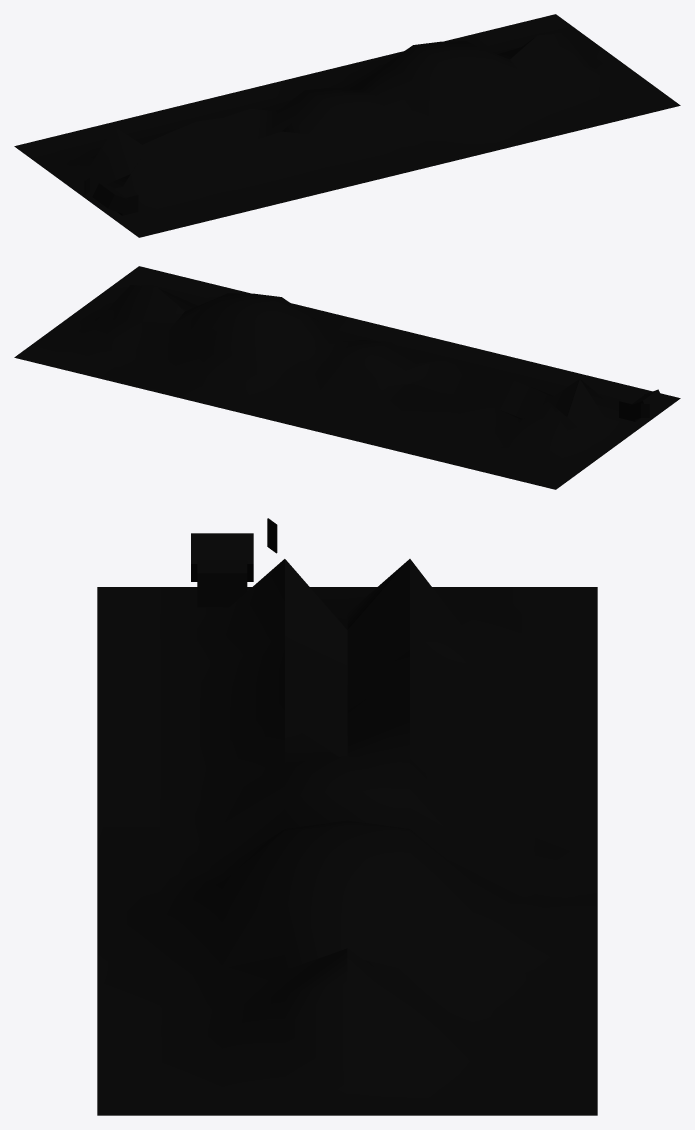
The model's file is SM_corpse_sheet.fbx.
3 renders of one model, top to bottom at view 1: azimuth 30°, elevation 25°; view 2: azimuth 150°, elevation 25°; view 3: azimuth 270°, elevation 25°, orthographic. The views are drawn at different scales.
Visible parts, largest first — view 1: corpse_sheet; view 2: corpse_sheet; view 3: corpse_sheet.
Part boxes in pixels (x1,y1,x2,y2): corpse_sheet: (14, 14, 680, 237); corpse_sheet: (14, 266, 680, 489); corpse_sheet: (97, 518, 597, 1115).
Size of the model in its own units: 2.04 by 0.1848 by 0.8.
